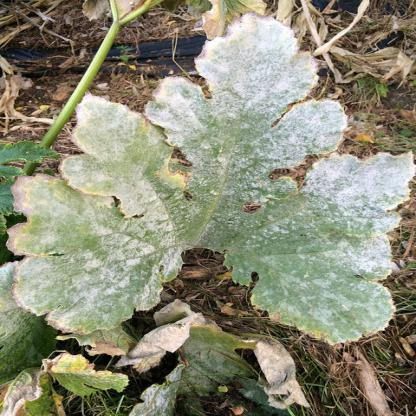squash powdery mildew leaf: (9, 12, 415, 341)
